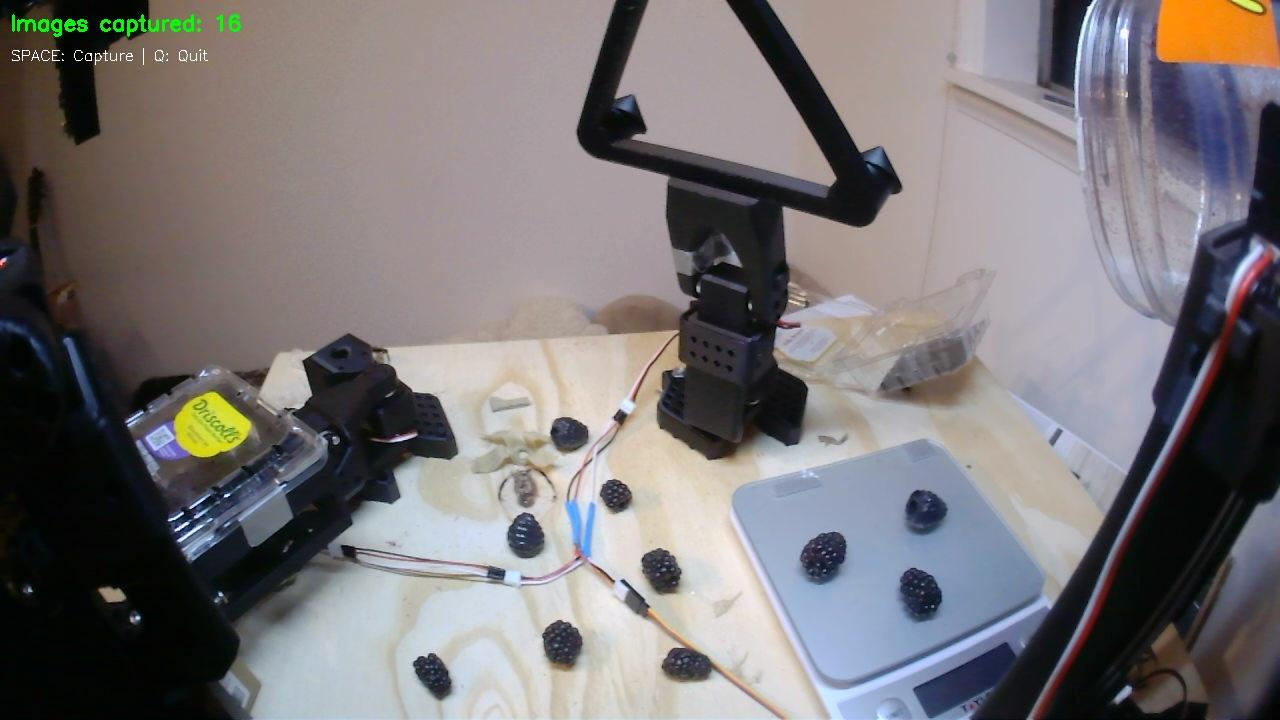berry: (800, 532, 846, 581), (899, 568, 942, 618), (542, 620, 583, 666), (906, 490, 947, 532), (413, 653, 451, 698), (642, 548, 681, 591), (507, 514, 544, 557), (663, 648, 711, 679), (550, 417, 588, 451), (600, 479, 630, 509)
